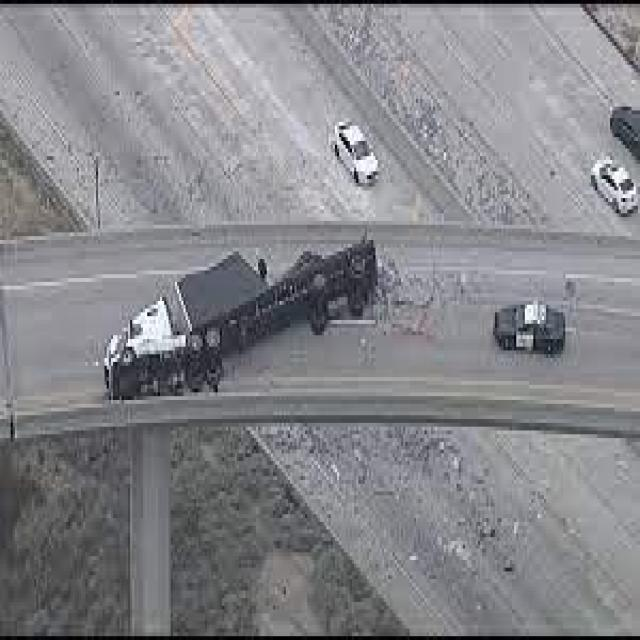accident: (98, 244, 393, 392)
